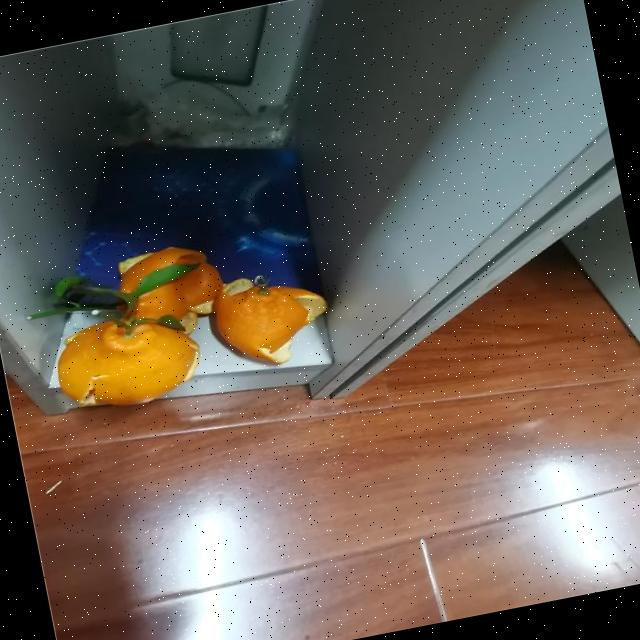orange-peel: (35, 217, 339, 419), (48, 302, 208, 418), (208, 262, 336, 374)
